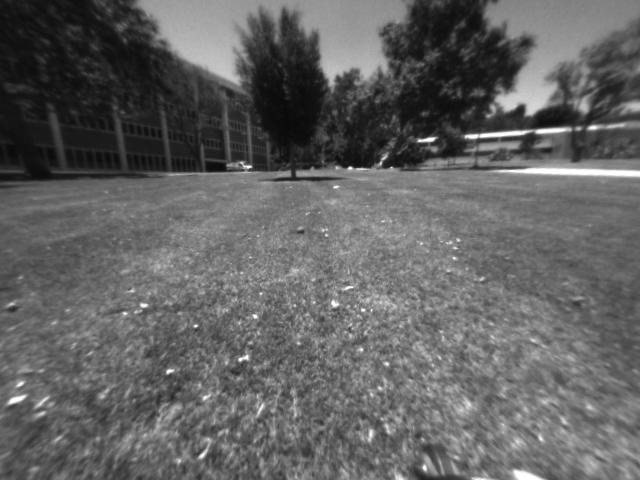dogtoy: (291, 221, 316, 240)
